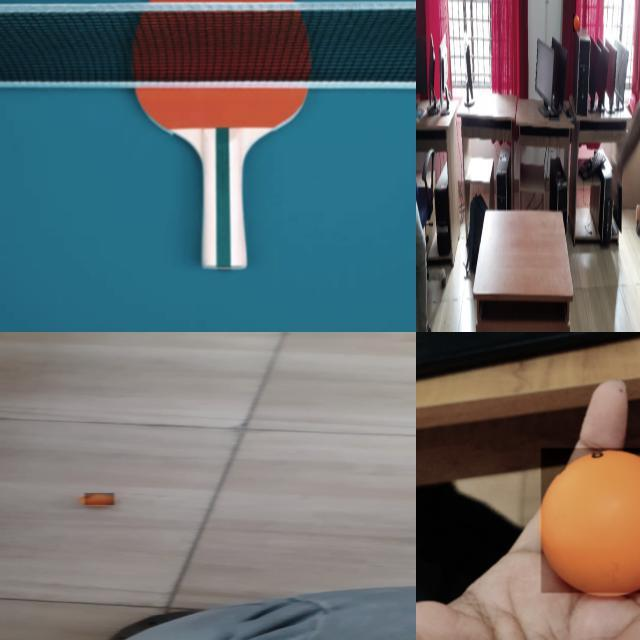ping-pong-ball: (541, 448, 639, 595), (84, 492, 116, 506), (573, 15, 580, 32)
